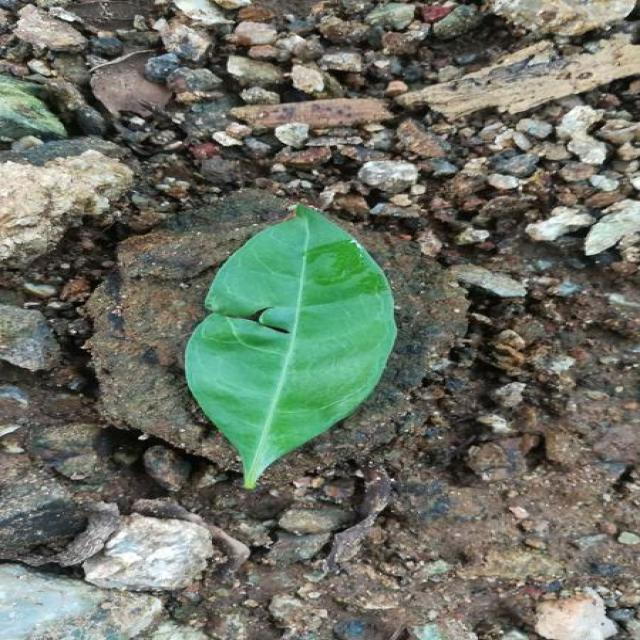henna: (185, 205, 397, 488)
